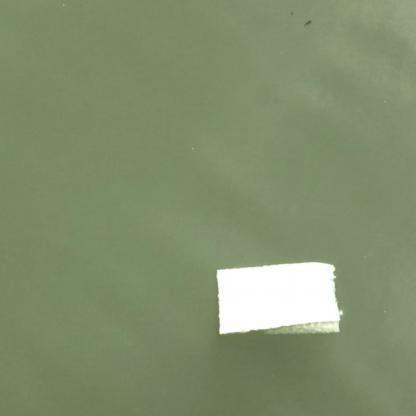Trash: (215, 262, 343, 336)
